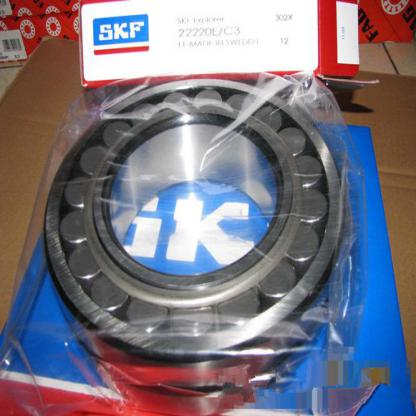FOD: (42, 76, 344, 398)
